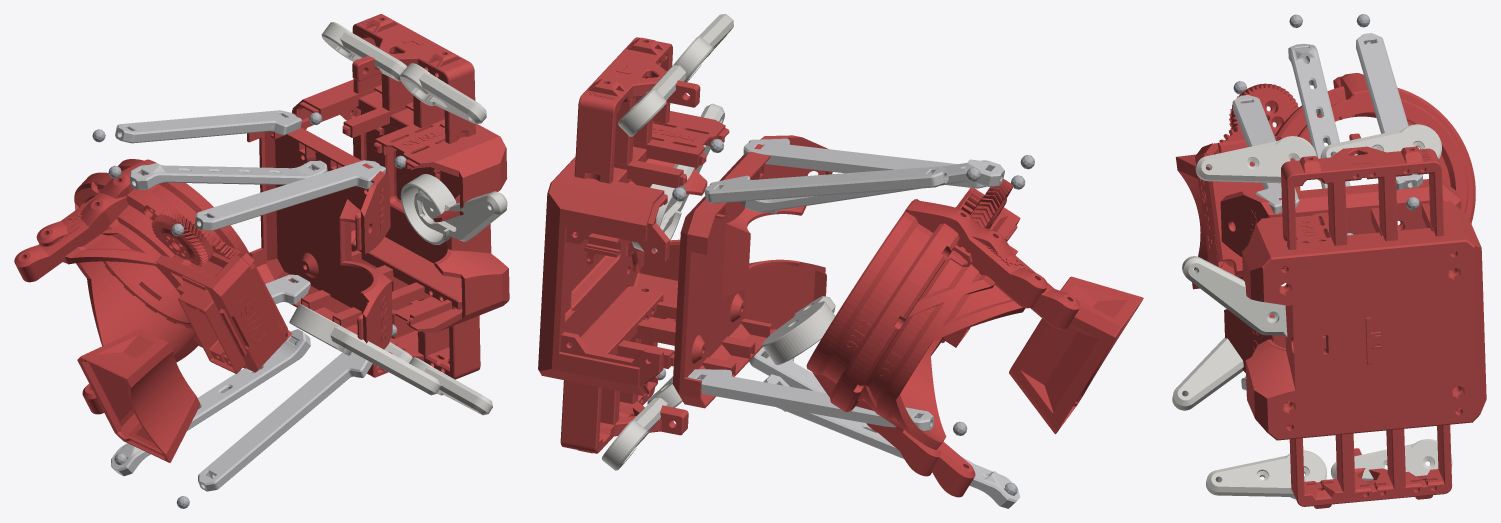
File: ORS6_clean.glb
3 views of the same model, side by side, from view 1: azimuth 30°, elevation 25°; view 2: azimuth 150°, elevation 25°; view 3: azimuth 270°, elevation 25° (orthographic). The views are drawn at different scales.
Parts seen in each view (by area): view 1: p13, p0, p3, p14, p1, p2, p11, p33, p9, p18, p21, p27 (+9 smaller); view 2: p0, p3, p13, p11, p14, p1, p2, p21, p30, p18, p12, p27 (+9 smaller); view 3: p0, p1, p3, p2, p12, p5, p8, p9, p11, p21, p24, p10 (+7 smaller).
Boxes of the visible parts, x1=… form: p13: x1=14, y1=179, x2=283, y2=414; p0: x1=292, y1=79, x2=509, y2=333; p3: x1=247, y1=127, x2=392, y2=349; p14: x1=77, y1=329, x2=200, y2=462; p1: x1=352, y1=14, x2=475, y2=143; p2: x1=351, y1=237, x2=480, y2=379; p11: x1=36, y1=159, x2=253, y2=342; p33: x1=198, y1=352, x2=372, y2=491; p9: x1=400, y1=174, x2=507, y2=244; p18: x1=195, y1=160, x2=385, y2=230; p21: x1=115, y1=110, x2=301, y2=143; p27: x1=111, y1=329, x2=310, y2=476; p0: x1=538, y1=111, x2=729, y2=395; p3: x1=672, y1=135, x2=832, y2=408; p13: x1=840, y1=194, x2=1080, y2=497; p11: x1=806, y1=199, x2=1047, y2=476; p14: x1=1009, y1=276, x2=1143, y2=434; p1: x1=574, y1=37, x2=700, y2=183; p2: x1=560, y1=286, x2=688, y2=453; p21: x1=704, y1=166, x2=948, y2=203; p30: x1=687, y1=369, x2=933, y2=431; p18: x1=743, y1=138, x2=986, y2=188; p12: x1=830, y1=188, x2=982, y2=408; p27: x1=763, y1=374, x2=1020, y2=508; p0: x1=1242, y1=201, x2=1486, y2=440; p1: x1=1281, y1=133, x2=1452, y2=266; p3: x1=1220, y1=179, x2=1461, y2=372; p2: x1=1285, y1=403, x2=1459, y2=508; p12: x1=1203, y1=86, x2=1475, y2=275; p5: x1=1195, y1=136, x2=1316, y2=183; p8: x1=1206, y1=450, x2=1326, y2=499; p9: x1=1182, y1=256, x2=1287, y2=337; p11: x1=1290, y1=73, x2=1468, y2=213; p21: x1=1356, y1=33, x2=1422, y2=189; p24: x1=1288, y1=43, x2=1350, y2=188; p10: x1=1172, y1=337, x2=1243, y2=410.
Bounding box in the file's own units: 317 × 246 × 184.
